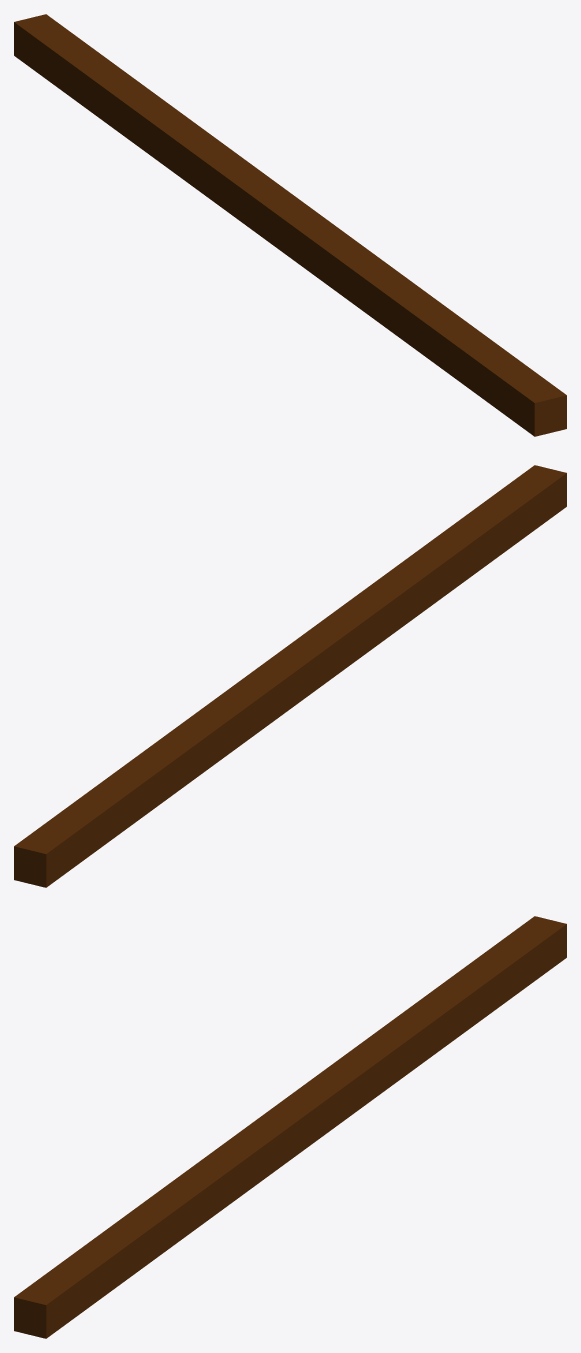
Rendered from borde2A.obj.
The picture shows the model from 3 angles, top to bottom: view 1: azimuth 30°, elevation 25°; view 2: azimuth 150°, elevation 25°; view 3: azimuth 330°, elevation 25°; orthographic projection.
Parts seen in each view (by area): view 1: Pillar.021; view 2: Pillar.021; view 3: Pillar.021.
Boxes of the visible parts, x1,y1,x2,y2 form: Pillar.021: (14,14,566,436); Pillar.021: (14,465,566,887); Pillar.021: (14,916,566,1338).
Bounding box in the file's own units: 1 × 1 × 28.
Materials: 4 (4 with a texture image).
